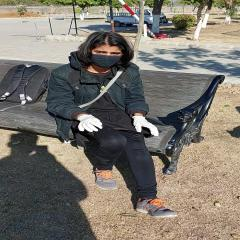gloved: (132, 117, 158, 136), (78, 116, 102, 132)
